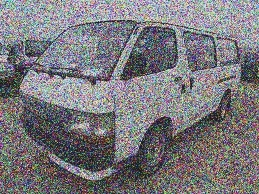van: (17, 18, 242, 175)
